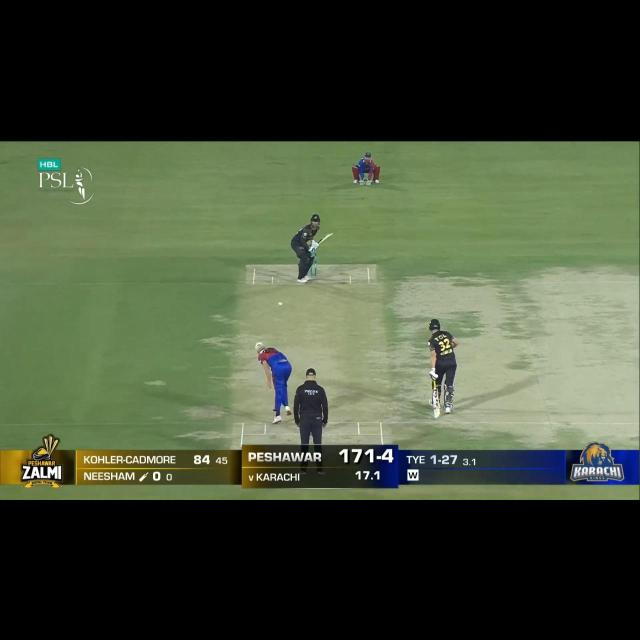bat: (432, 388, 441, 419), (315, 232, 334, 245)
toe: (326, 232, 335, 237), (434, 413, 440, 419)
